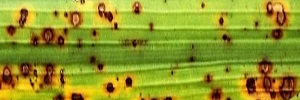RiceBrownSpot: (1, 2, 178, 100), (196, 1, 300, 100)
